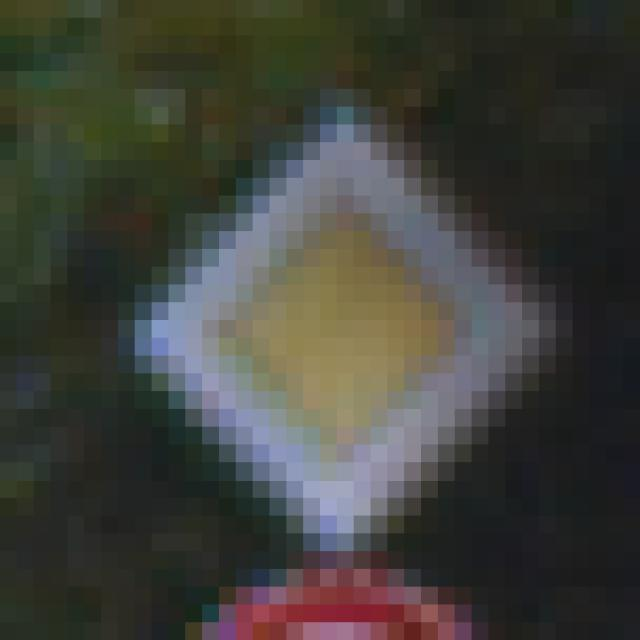Main Road: (102, 90, 557, 534)
